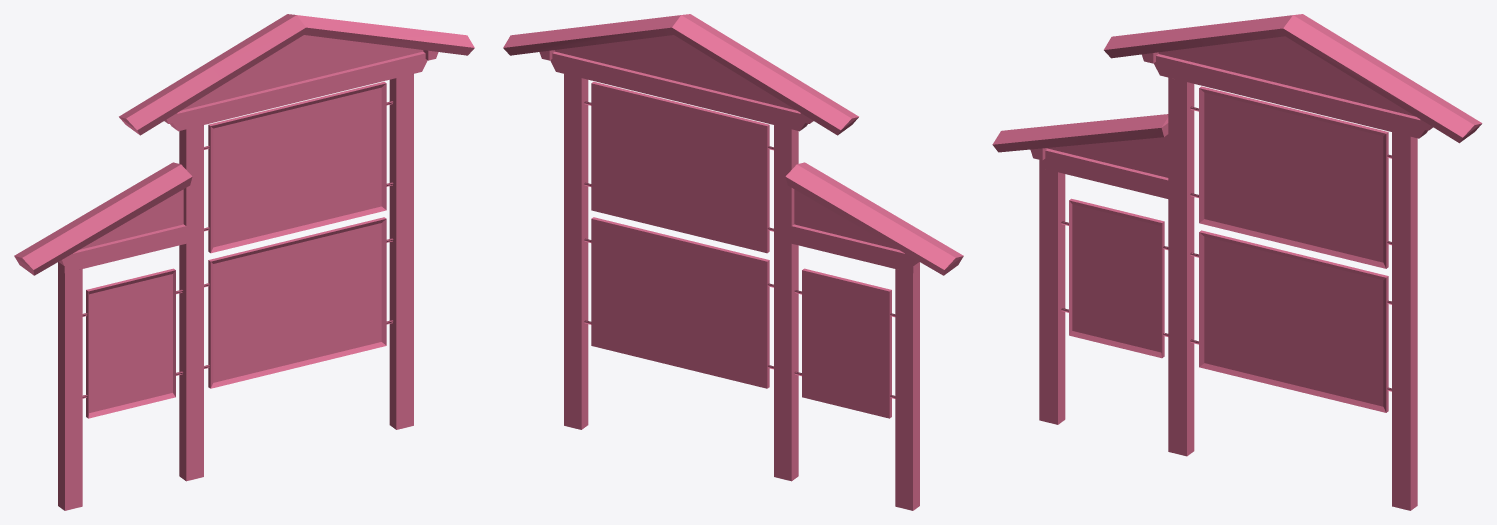
Rendered from info.glb.
3 renders of one model, left to right at view 1: azimuth 30°, elevation 25°; view 2: azimuth 150°, elevation 25°; view 3: azimuth 330°, elevation 25°, orthographic. The views are drawn at different scales.
Parts seen in each view (by area): view 1: infopanel_infopanel_0; view 2: infopanel_infopanel_0; view 3: infopanel_infopanel_0.
Part boxes in pixels (x1,y1,x2,y2): infopanel_infopanel_0: (14,14,474,510); infopanel_infopanel_0: (503,14,963,510); infopanel_infopanel_0: (992,14,1482,510).
Size of the model in its own units: 7.94 by 7.43 by 0.6019.
